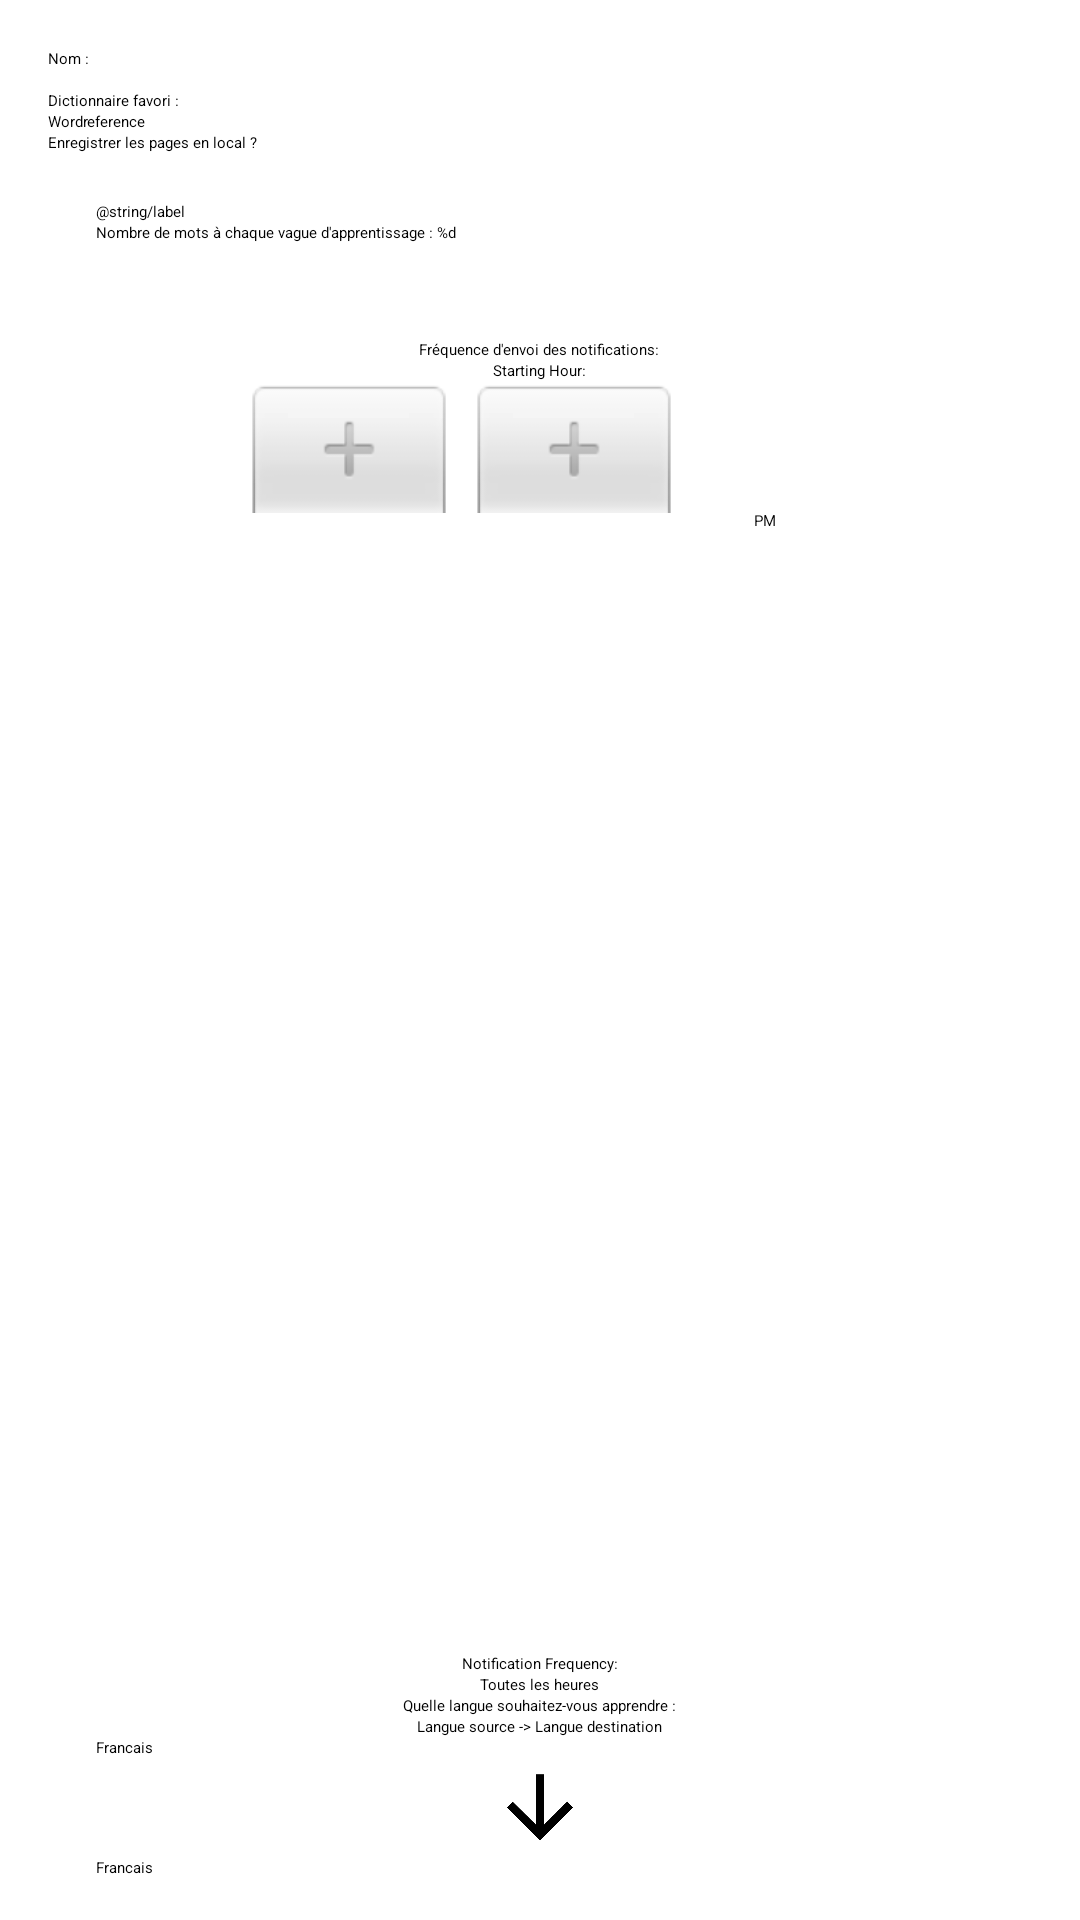

Where to tap for icons on this 1080 × 1920 app screen, as point (x, y):
Fleche: point (540, 1807)
